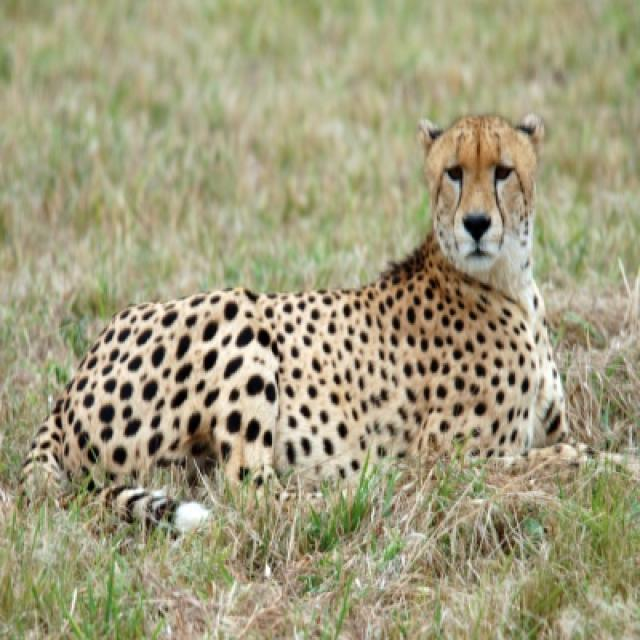Cheetah: (26, 115, 591, 529)
